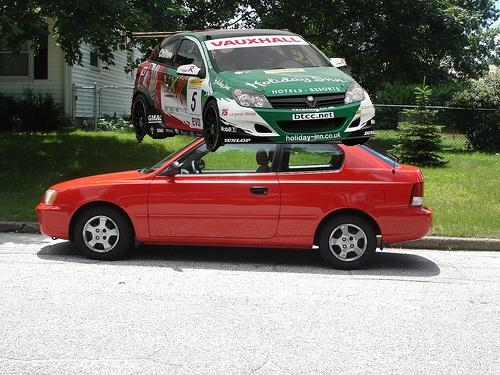tampered: (126, 30, 375, 152)
